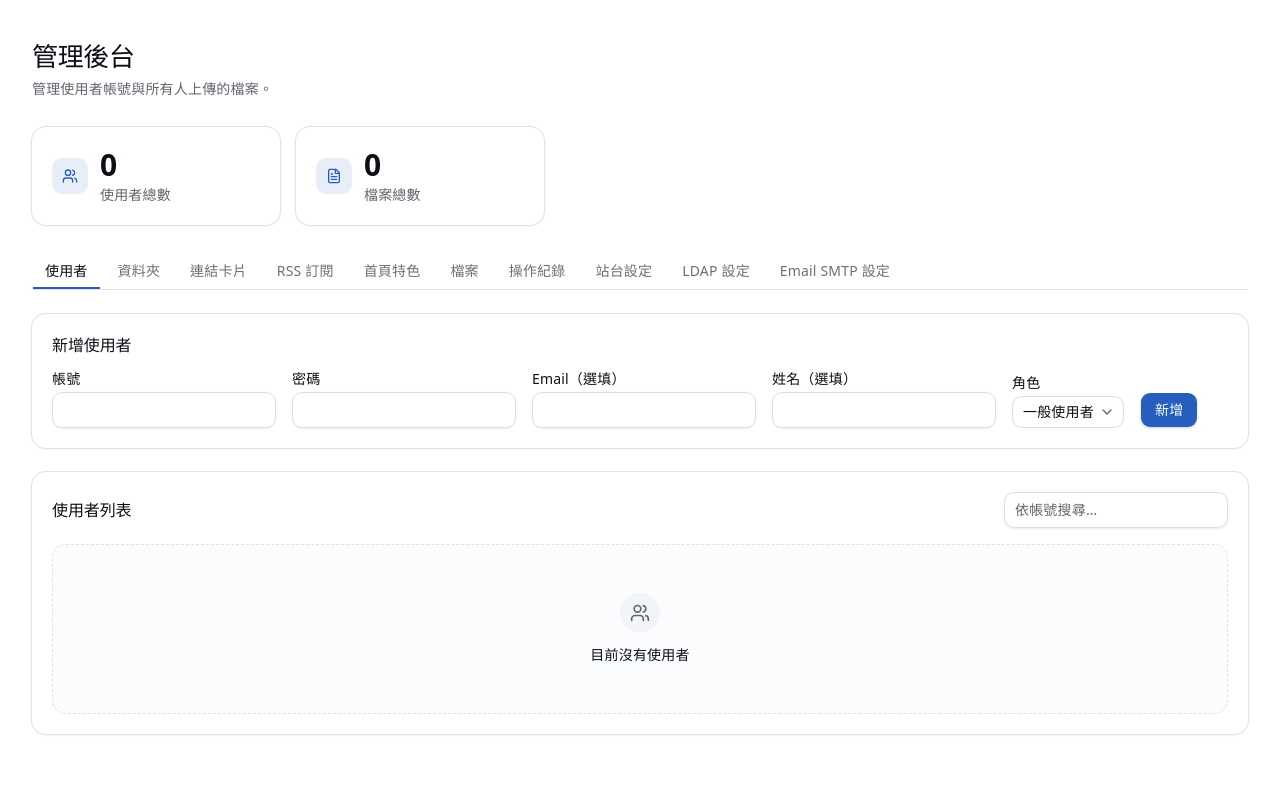
Test case: AdminPage › switches between tabs
Check: the heading "使用者列表" is shown, box [52,499,132,521]
Check: the text "資料夾列表" is not shown
Click the tab "資料夾".
click(139, 270)  # box [104,252,173,288]
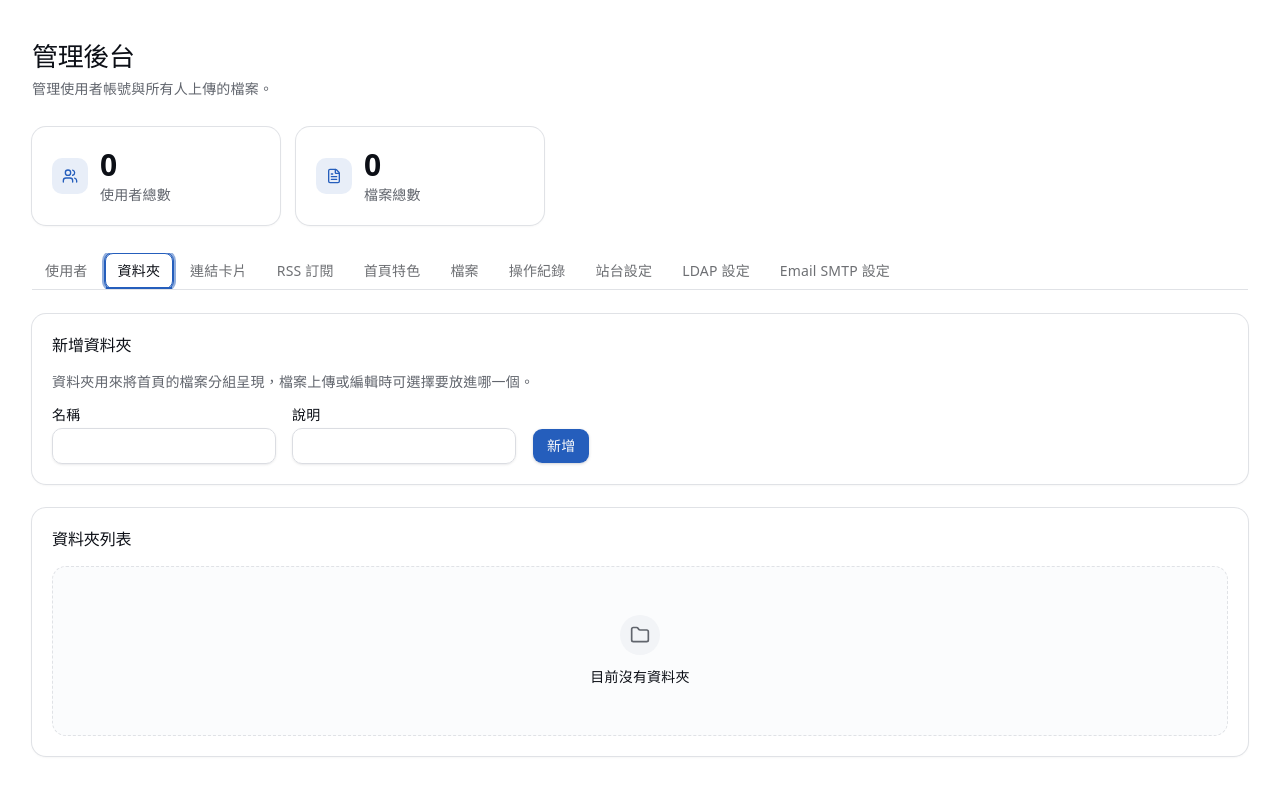
Check: the heading "資料夾列表" is shown, box [52,528,132,550]
